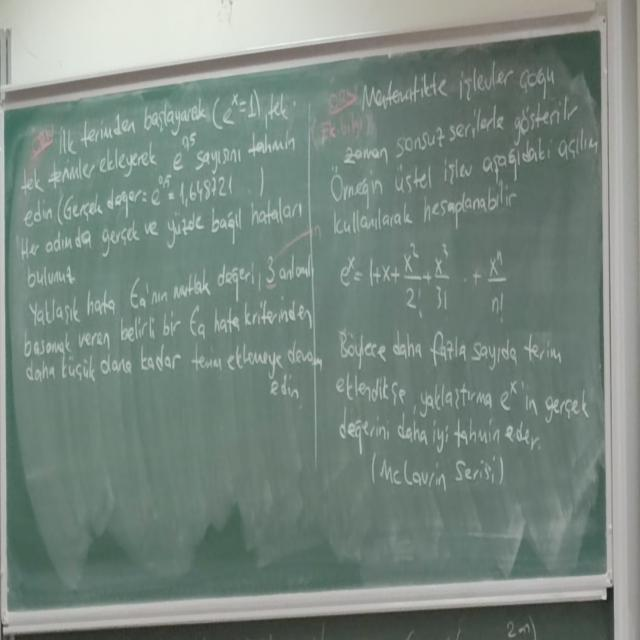math: (337, 235, 514, 326)
text: (17, 82, 327, 413), (324, 62, 597, 233), (327, 325, 591, 493)
